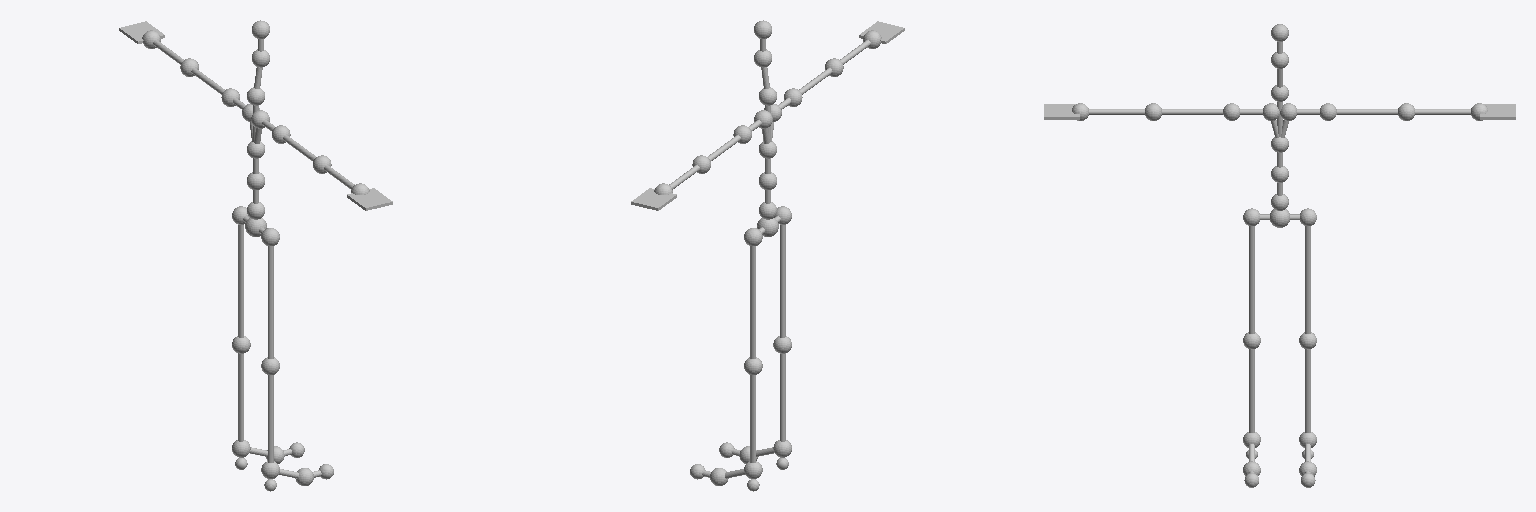
--- Facts derived from the render (not from the file) ---
Views: 3 orthographic renders of the robot side by side, from view 1: azimuth 30°, elevation 25°; view 2: azimuth 150°, elevation 25°; view 3: azimuth 270°, elevation 25°.
Model ccrp_skeleton with 73 links and 72 joints (63 revolute, 9 fixed), rooted at hips, posed every joint at zero.
Visible links, largest first — view 1: left_up_leg_link, right_up_leg_link, right_hand_link, right_leg_link, left_leg_link; view 2: left_up_leg_link, right_up_leg_link, left_hand_link, left_leg_link, right_leg_link; view 3: left_up_leg_link, right_up_leg_link.
Boxes of the visible links, x1,y1,x2,y2 form: left_up_leg_link: (238,225,243,337); right_up_leg_link: (268,246,273,358); right_hand_link: (347,188,392,210); right_leg_link: (268,375,273,462); left_leg_link: (238,353,243,441); left_up_leg_link: (750,246,755,358); right_up_leg_link: (780,225,785,337); left_hand_link: (631,188,676,210); left_leg_link: (750,375,755,462); right_leg_link: (780,353,785,441); left_up_leg_link: (1305,226,1310,333); right_up_leg_link: (1249,226,1254,333).
Bounding box of the posed robot: 0.28 × 1.57 × 1.62 m (x, y, z).
Geometry: primitives only (box / cylinder / sphere), no mesh files.

robot.urdf — ccrp_skeleton:
<robot name="ccrp_skeleton">
  <mujoco>
    <compiler meshdir="meshes" discardvisual="false"/>
  </mujoco>

  <!-- <link name= "ww">
  </link> -->

  <link name="hips">
    <visual>
      <origin xyz="0 0 0" rpy="0 0 0"/>
      <geometry>
        <sphere radius="0.035"/>
      </geometry>
      <material name="dark">
        <color rgba="0.8 0.8 0.8 1"/>
      </material>
    </visual>
  </link>

  <link name="left_hips2up_leg_link">
    <visual>
      <origin xyz="0 0.04685 0" rpy="1.5708 0 0"/>
      <geometry>
        <cylinder radius="0.01" length="0.0937"/>
      </geometry>
      <material name="dark">
        <color rgba="0.8 0.8 0.8 1"/>
      </material>
    </visual>
  </link>
  <joint name="left_hips2up_leg_joint" type="fixed">
    <origin xyz="0 0 0" rpy="0 0  0"/>
    <parent link="hips"/>
    <child link="left_hips2up_leg_link"/>
    <axis xyz="0 0 1"/>
    <limit lower="-2.79252444" upper="2.34906556" effort="88" velocity="32"/>
  </joint>

  <link name="right_hips2up_leg_link">
    <visual>
      <origin xyz="0 -0.04685 0" rpy="1.5708 0 0"/>
      <geometry>
        <cylinder radius="0.01" length="0.0937"/>
      </geometry>
      <material name="dark">
        <color rgba="0.8 0.8 0.8 1"/>
      </material>
    </visual>
  </link>
  <joint name="right_hips2up_leg_joint" type="fixed">
    <origin xyz="0 0 0" rpy="0 0  0"/>
    <parent link="hips"/>
    <child link="right_hips2up_leg_link"/>
    <axis xyz="0 0 1"/>
    <limit lower="-2.79252444" upper="2.34906556" effort="88" velocity="32"/>
  </joint>


  <!-- ###################### Left  Leg ########################### -->
  
  

  <link name="left_up_leg_1">
    <visual>
      <origin xyz="0 0 0" rpy="0 0 0"/>
      <geometry>
        <sphere radius="0.03"/>
      </geometry>
      <material name="dark">
        <color rgba="0.8 0.8 0.8 1"/>
      </material>
    </visual>
  </link>

  <link name="left_up_leg_2">
  </link>
  <link name="left_up_leg_link">
    <visual>
      <origin xyz="0.0 0.0 -0.227" rpy="0.0 0.0 0.0"/>
      <geometry>
        <cylinder radius="0.01" length="0.454"/>
      </geometry>
      <material name="dark">
        <color rgba="0.8 0.8 0.8 1"/>
      </material>
    </visual>
  </link>

  <joint name="left_up_leg_joint_x" type="revolute">
    <origin xyz="0 0.0937 0" rpy="0 0  0"/>
    <parent link="hips"/>
    <child link="left_up_leg_1"/>
    <axis xyz="1 0 0"/>
    <limit lower="-2.79252444" upper="2.34906556" effort="88" velocity="32"/>
  </joint>

  <joint name="left_up_leg_joint_y" type="revolute">
    <origin xyz="0 0 0" rpy="0 0  0"/>
    <parent link="left_up_leg_1"/>
    <child link="left_up_leg_2"/>
    <axis xyz="0 1 0"/>
    <limit lower="-2.79252444" upper="2.34906556" effort="88" velocity="32"/>
  </joint>

  <joint name="left_up_leg_joint_z" type="revolute">
    <origin xyz="0 0 0" rpy="0 0  0"/>
    <parent link="left_up_leg_2"/>
    <child link="left_up_leg_link"/>
    <axis xyz="0 0 1"/>
    <limit lower="-2.79252444" upper="2.34906556" effort="88" velocity="32"/>
  </joint>

  <link name="left_leg_1">
    <visual>
      <origin xyz="0 0 0" rpy="0 0 0"/>
      <geometry>
        <sphere radius="0.03"/>
      </geometry>
      <material name="dark">
        <color rgba="0.8 0.8 0.8 1"/>
      </material>
    </visual>
  </link>
  <link name="left_leg_2">
  </link>

  <link name="left_leg_link">
    <visual>
      <origin xyz="0.0 0.0 -0.183" rpy="0.0 0.0 0.0"/>
      <geometry>
        <cylinder radius="0.01" length="0.366"/>
      </geometry>
      <material name="dark">
        <color rgba="0.8 0.8 0.8 1"/>
      </material>
    </visual>
  </link>

  <joint name="left_leg_joint_x" type="revolute">
    <origin xyz="0 0 -0.454" rpy="0 0  0"/>
    <parent link="left_up_leg_link"/>
    <child link="left_leg_1"/>
    <axis xyz="1 0 0"/>
    <limit lower="-2.79252444" upper="2.34906556" effort="88" velocity="32"/>
  </joint>

  <joint name="left_leg_joint_y" type="revolute">
    <origin xyz="0 0 0.0" rpy="0 0  0"/>
    <parent link="left_leg_1"/>
    <child link="left_leg_2"/>
    <axis xyz="0 1 0"/>
    <limit lower="-2.79252444" upper="2.34906556" effort="88" velocity="32"/>
  </joint>

  <joint name="left_leg_joint_z" type="revolute">
    <origin xyz="0 0 0.0" rpy="0 0  0"/>
    <parent link="left_leg_2"/>
    <child link="left_leg_link"/>
    <axis xyz="0 0 1"/>
    <limit lower="-2.79252444" upper="2.34906556" effort="88" velocity="32"/>
  </joint>

  <link name="left_foot_1">
    <visual>
      <origin xyz="0 0 0" rpy="0 0 0"/>
      <geometry>
        <sphere radius="0.03"/>
      </geometry>
      <material name="dark">
        <color rgba="0.8 0.8 0.8 1"/>
      </material>
    </visual>
  </link>
  <link name ="left_foot_2">
  </link>
  <link name="left_foot_link">
    <visual>
      <origin xyz="0.0625 0.0 -0.027" rpy="0.0 1.9785810654722864 0.0"/>
      <geometry>
        <cylinder radius="0.01" length="0.13616534067081829"/>
      </geometry>
      <material name="dark">
        <color rgba="0.8 0.8 0.8 1"/>
      </material>
    </visual>
  </link>

  <joint name="left_foot_joint_x" type="revolute">
    <origin xyz="0 0 -0.366" rpy="0 0 0"/>
    <parent link="left_leg_link"/>
    <child link="left_foot_1"/>
    <axis xyz="1 0 0"/>
    <limit lower="-2.79252444" upper="2.34906556" effort="88" velocity="32"/>
  </joint>

  <joint name="left_foot_joint_y" type="revolute">
    <origin xyz="0 0 0.0" rpy="0 0 0"/>
    <parent link="left_foot_1"/>
    <child link="left_foot_2"/>
    <axis xyz="0 1 0"/>
    <limit lower="-2.79252444" upper="2.34906556" effort="88" velocity="32"/>
  </joint>

  <joint name="left_foot_joint_z" type="revolute">
    <origin xyz="0 0 0" rpy="0 0 0"/>
    <parent link="left_foot_2"/>
    <child link="left_foot_link"/>
    <axis xyz="0 0 1"/>
    <limit lower="-2.79252444" upper="2.34906556" effort="88" velocity="32"/>
  </joint>


  <link name="left_toe_1">
    <visual>
      <origin xyz="0 0 0" rpy="0 0 0"/>
      <geometry>
        <sphere radius="0.03"/>
      </geometry>
      <material name="dark">
        <color rgba="0.8 0.8 0.8 1"/>
      </material>
    </visual>
  </link>
  <link name ="left_toe_2">
  </link>
  <link name="left_toe_link">
    <visual>
      <origin xyz="0.04 0.0 0.0" rpy="0.0 1.5708 0.0"/>
      <geometry>
        <cylinder radius="0.01" length="0.08"/>
      </geometry>
      <material name="dark">
        <color rgba="0.8 0.8 0.8 1"/>
      </material>
    </visual>
  </link>

  <joint name="left_toe_joint_x" type="revolute">
    <origin xyz="0.125 0 -0.054" rpy="0 0 0"/>
    <parent link="left_foot_link"/>
    <child link="left_toe_1"/>
    <axis xyz="1 0 0"/>
    <limit lower="-2.79252444" upper="2.34906556" effort="88" velocity="32"/>
  </joint>

  <joint name="left_toe_joint_y" type="revolute">
    <origin xyz="0 0 0" rpy="0 0 0"/>
    <parent link="left_toe_1"/>
    <child link="left_toe_2"/>
    <axis xyz="0 1 0"/>
    <limit lower="-2.79252444" upper="2.34906556" effort="88" velocity="32"/>
  </joint>

  <joint name="left_toe_joint_z" type="revolute">
    <origin xyz="0 0 0" rpy="0 0 0"/>
    <parent link="left_toe_2"/>
    <child link="left_toe_link"/>
    <axis xyz="0 0 1"/>
    <limit lower="-2.79252444" upper="2.34906556" effort="88" velocity="32"/>
  </joint>

  <link name="left_toe_end_link">
    <visual>
      <origin xyz="0 0 0" rpy="0 0 0"/>
      <geometry>
        <sphere radius="0.025"/>
      </geometry>
      <material name="dark">
        <color rgba="0.8 0.8 0.8 1"/>
      </material>
    </visual>
  </link>

  <joint name="left_toe_end_joint" type="fixed">
    <origin xyz="0.08 0.0 0.0" rpy="0 0 0"/>
    <parent link="left_toe_link"/>
    <child link="left_toe_end_link"/>
    <axis xyz="0 1 0"/>
    <limit lower="-2.79252444" upper="2.34906556" effort="88" velocity="32"/>
  </joint>

  <link name="left_foot_end_link">
    <visual>
      <origin xyz="0 0 0" rpy="0 0 0"/>
      <geometry>
        <sphere radius="0.02"/>
      </geometry>
      <material name="dark">
        <color rgba="0.8 0.8 0.8 1"/>
      </material>
    </visual>
  </link>
  <joint name="left_foot_end_joint" type="fixed">
    <origin xyz="0.0 0.0 -0.054" rpy="0 0 0"/>
    <parent link="left_foot_link"/>
    <child link="left_foot_end_link"/>
    <axis xyz="0 1 0"/>
    <limit lower="-2.79252444" upper="2.34906556" effort="88" velocity="32"/>
  </joint>

  <!-- ###################### Right  Leg ########################### -->
  <link name="right_up_leg_1">
    <visual>
      <origin xyz="0 0 0" rpy="0 0 0"/>
      <geometry>
        <sphere radius="0.03"/>
      </geometry>
      <material name="dark">
        <color rgba="0.8 0.8 0.8 1"/>
      </material>
    </visual>
  </link>

  <link name="right_up_leg_2">
  </link>
  <link name="right_up_leg_link">
    <visual>
      <origin xyz="0.0 0.0 -0.227" rpy="0.0 0.0 0.0"/>
      <geometry>
        <cylinder radius="0.01" length="0.454"/>
      </geometry>
      <material name="dark">
        <color rgba="0.8 0.8 0.8 1"/>
      </material>
    </visual>
  </link>

  <joint name="right_up_leg_joint_x" type="revolute">
    <origin xyz="0 -0.0937 0" rpy="0 0  0"/>
    <parent link="hips"/>
    <child link="right_up_leg_1"/>
    <axis xyz="1 0 0"/>
    <limit lower="-2.79252444" upper="2.34906556" effort="88" velocity="32"/>
  </joint>

  <joint name="right_up_leg_joint_y" type="revolute">
    <origin xyz="0 0 0" rpy="0 0  0"/>
    <parent link="right_up_leg_1"/>
    <child link="right_up_leg_2"/>
    <axis xyz="0 1 0"/>
    <limit lower="-2.79252444" upper="2.34906556" effort="88" velocity="32"/>
  </joint>

  <joint name="right_up_leg_joint_z" type="revolute">
    <origin xyz="0 0 0" rpy="0 0  0"/>
    <parent link="right_up_leg_2"/>
    <child link="right_up_leg_link"/>
    <axis xyz="0 0 1"/>
    <limit lower="-2.79252444" upper="2.34906556" effort="88" velocity="32"/>
  </joint>

  <link name="right_leg_1">
    <visual>
      <origin xyz="0 0 0" rpy="0 0 0"/>
      <geometry>
        <sphere radius="0.03"/>
      </geometry>
      <material name="dark">
        <color rgba="0.8 0.8 0.8 1"/>
      </material>
    </visual>
  </link>
  <link name="right_leg_2">
  </link>
  <link name="right_leg_link">
    <visual>
      <origin xyz="0.0 0.0 -0.183" rpy="0.0 0.0 0.0"/>
      <geometry>
        <cylinder radius="0.01" length="0.366"/>
      </geometry>
      <material name="dark">
        <color rgba="0.8 0.8 0.8 1"/>
      </material>
    </visual>
  </link>

  <joint name="right_leg_joint_x" type="revolute">
    <origin xyz="0 0 -0.454" rpy="0 0  0"/>
    <parent link="right_up_leg_link"/>
    <child link="right_leg_1"/>
    <axis xyz="1 0 0"/>
    <limit lower="-2.79252444" upper="2.34906556" effort="88" velocity="32"/>
  </joint>
  <joint name="right_leg_joint_y" type="revolute">
    <origin xyz="0 0 0" rpy="0 0  0"/>
    <parent link="right_leg_1"/>
    <child link="right_leg_2"/>
    <axis xyz="0 1 0"/>
    <limit lower="-2.79252444" upper="2.34906556" effort="88" velocity="32"/>
  </joint>
  <joint name="right_leg_joint_z" type="revolute">
    <origin xyz="0 0 0" rpy="0 0  0"/>
    <parent link="right_leg_2"/>
    <child link="right_leg_link"/>
    <axis xyz="0 0 1"/>
    <limit lower="-2.79252444" upper="2.34906556" effort="88" velocity="32"/>
  </joint>

  <link name="right_foot_1">
    <visual>
      <origin xyz="0 0 0" rpy="0 0 0"/>
      <geometry>
        <sphere radius="0.03"/>
      </geometry>
      <material name="dark">
        <color rgba="0.8 0.8 0.8 1"/>
      </material>
    </visual>
  </link>
  <link name="right_foot_2">
  </link>
  <link name="right_foot_link">
    <visual>
      <origin xyz="0.0625 0.0 -0.027" rpy="0.0 1.9785810654722864 0.0"/>
      <geometry>
        <cylinder radius="0.01" length="0.13616534067081829"/>
      </geometry>
      <material name="dark">
        <color rgba="0.8 0.8 0.8 1"/>
      </material>
    </visual>
  </link>

  <joint name="right_foot_joint_x" type="revolute">
    <origin xyz="0 0 -0.366" rpy="0 0 0"/>
    <parent link="right_leg_link"/>
    <child link="right_foot_1"/>
    <axis xyz="1 0 0"/>
    <limit lower="-2.79252444" upper="2.34906556" effort="88" velocity="32"/>
  </joint>
  <joint name="right_foot_joint_y" type="revolute">
    <origin xyz="0 0 0" rpy="0 0 0"/>
    <parent link="right_foot_1"/>
    <child link="right_foot_2"/>
    <axis xyz="0 1 0"/>
    <limit lower="-2.79252444" upper="2.34906556" effort="88" velocity="32"/>
  </joint>
  <joint name="right_foot_joint_z" type="revolute">
    <origin xyz="0 0 0" rpy="0 0 0"/>
    <parent link="right_foot_2"/>
    <child link="right_foot_link"/>
    <axis xyz="0 0 1"/>
    <limit lower="-2.79252444" upper="2.34906556" effort="88" velocity="32"/>
  </joint>

  <link name="right_toe_1">
    <visual>
      <origin xyz="0 0 0" rpy="0 0 0"/>
      <geometry>
        <sphere radius="0.03"/>
      </geometry>
      <material name="dark">
        <color rgba="0.8 0.8 0.8 1"/>
      </material>
    </visual>
  </link>
  <link name ="right_toe_2">
  </link>
  <link name="right_toe_link">
    <visual>
      <origin xyz="0.04 0.0 0.0" rpy="0.0 1.5708 0.0"/>
      <geometry>
        <cylinder radius="0.01" length="0.08"/>
      </geometry>
      <material name="dark">
        <color rgba="0.8 0.8 0.8 1"/>
      </material>
    </visual>
  </link>

  <joint name="right_toe_joint_x" type="revolute">
    <origin xyz="0.125 0 -0.054" rpy="0 0 0"/>
    <parent link="right_foot_link"/>
    <child link="right_toe_1"/>
    <axis xyz="1 0 0"/>
    <limit lower="-2.79252444" upper="2.34906556" effort="88" velocity="32"/>
  </joint>

  <joint name="right_toe_joint_y" type="revolute">
    <origin xyz="0 0 0" rpy="0 0 0"/>
    <parent link="right_toe_1"/>
    <child link="right_toe_2"/>
    <axis xyz="0 1 0"/>
    <limit lower="-2.79252444" upper="2.34906556" effort="88" velocity="32"/>
  </joint>

  <joint name="right_toe_joint_z" type="revolute">
    <origin xyz="0 0 0" rpy="0 0 0"/>
    <parent link="right_toe_2"/>
    <child link="right_toe_link"/>
    <axis xyz="0 0 1"/>
    <limit lower="-2.79252444" upper="2.34906556" effort="88" velocity="32"/>
  </joint>

  <link name="right_toe_end_link">
    <visual>
      <origin xyz="0 0 0" rpy="0 0 0"/>
      <geometry>
        <sphere radius="0.025"/>
      </geometry>
      <material name="dark">
        <color rgba="0.8 0.8 0.8 1"/>
      </material>
    </visual>
  </link>

  <joint name="right_toe_end_joint" type="fixed">
    <origin xyz="0.08 0.0 0.0" rpy="0 0 0"/>
    <parent link="right_toe_link"/>
    <child link="right_toe_end_link"/>
    <axis xyz="0 1 0"/>
    <limit lower="-2.79252444" upper="2.34906556" effort="88" velocity="32"/>
  </joint>

  <link name="right_foot_end_link">
    <visual>
      <origin xyz="0 0 0" rpy="0 0 0"/>
      <geometry>
        <sphere radius="0.02"/>
      </geometry>
      <material name="dark">
        <color rgba="0.8 0.8 0.8 1"/>
      </material>
    </visual>
  </link>
  <joint name="right_foot_end_joint" type="fixed">
    <origin xyz="0.0 0.0 -0.054" rpy="0 0 0"/>
    <parent link="right_foot_link"/>
    <child link="right_foot_end_link"/>
    <axis xyz="0 1 0"/>
    <limit lower="-2.79252444" upper="2.34906556" effort="88" velocity="32"/>
  </joint>

  <!-- ################## Upper Body ################## -->

  <!-- ~~~~~~~~~~~~~~~~~~ Spine1 Link ~~~~~~~~~~~~~~~~~~ -->
  <link name="spine1_1">
    <visual>
      <origin xyz="0 0 0" rpy="0 0 0"/>
      <geometry>
        <sphere radius="0.03"/>
      </geometry>
      <material name="dark">
        <color rgba="0.8 0.8 0.8 1"/>
      </material>
    </visual>
  </link>

  <link name="spine1_2">
  </link>
  <link name="spine1_link">
    <visual>
      <origin xyz="0.0 0.0 0.052" rpy="0.0 0.0 0.0"/>
      <geometry>
        <cylinder radius="0.01" length="0.104"/>
      </geometry>
      <material name="dark">
        <color rgba="0.8 0.8 0.8 1"/>
      </material>
    </visual>
  </link>

  <joint name="spine1_joint_x" type="revolute">
    <origin xyz="0 0.0 0.0562" rpy="0 0  0"/>
    <parent link="hips"/>
    <child link="spine1_1"/>
    <axis xyz="1 0 0"/>
    <limit lower="-2.79252444" upper="2.34906556" effort="88" velocity="32"/>
  </joint>

  <joint name="spine1_joint_y" type="revolute">
    <origin xyz="0 0 0" rpy="0 0  0"/>
    <parent link="spine1_1"/>
    <child link="spine1_2"/>
    <axis xyz="0 1 0"/>
    <limit lower="-2.79252444" upper="2.34906556" effort="88" velocity="32"/>
  </joint>

  <joint name="spine1_joint_z" type="revolute">
    <origin xyz="0 0 0" rpy="0 0  0"/>
    <parent link="spine1_2"/>
    <child link="spine1_link"/>
    <axis xyz="0 0 1"/>
    <limit lower="-2.79252444" upper="2.34906556" effort="88" velocity="32"/>
  </joint>

  <!-- ~~~~~~~~~~~~~~~~~~ Spine2 Link ~~~~~~~~~~~~~~~~~~ -->
  <link name="spine2_1">
    <visual>
      <origin xyz="0 0 0" rpy="0 0 0"/>
      <geometry>
        <sphere radius="0.03"/>
      </geometry>
      <material name="dark">
        <color rgba="0.8 0.8 0.8 1"/>
      </material>
    </visual>
  </link>

  <link name="spine2_2">
  </link>
  <link name="spine2_link">
    <visual>
      <origin xyz="0.0 0.0 0.0552" rpy="0.0 0.0 0.0"/>
      <geometry>
        <cylinder radius="0.01" length="0.111"/>
      </geometry>
      <material name="dark">
        <color rgba="0.8 0.8 0.8 1"/>
      </material>
    </visual>
  </link>

  <joint name="spine2_joint_x" type="revolute">
    <origin xyz="0.0 0.0 0.104" rpy="0 0  0"/>
    <parent link="spine1_link"/>
    <child link="spine2_1"/>
    <axis xyz="1 0 0"/>
    <limit lower="-2.79252444" upper="2.34906556" effort="88" velocity="32"/>
  </joint>

  <joint name="spine2_joint_y" type="revolute">
    <origin xyz="0 0 0" rpy="0 0  0"/>
    <parent link="spine2_1"/>
    <child link="spine2_2"/>
    <axis xyz="0 1 0"/>
    <limit lower="-2.79252444" upper="2.34906556" effort="88" velocity="32"/>
  </joint>

  <joint name="spine2_joint_z" type="revolute">
    <origin xyz="0 0 0" rpy="0 0  0"/>
    <parent link="spine2_2"/>
    <child link="spine2_link"/>
    <axis xyz="0 0 1"/>
    <limit lower="-2.79252444" upper="2.34906556" effort="88" velocity="32"/>
  </joint>
  <!-- ~~~~~~~~~~~~~~~~~~ Chesk Link ~~~~~~~~~~~~~~~~~~ -->
  <link name="chest_1">
    <visual>
      <origin xyz="0 0 0.0" rpy="0 0 0"/>
      <geometry>
        <sphere radius="0.03"/>
      </geometry>
      <material name="dark">
        <color rgba="0.8 0.8 0.8 1"/>
      </material>
    </visual>
  </link>

  <link name="chest_2">
  </link>
  <link name="chest_link">
    <visual>
      <origin xyz="0.0 0.0 0.0935" rpy="0.0 0.0 0.0"/>
      <geometry>
        <cylinder radius="0.01" length="0.187"/>
      </geometry>
      <material name="dark">
        <color rgba="0.8 0.8 0.8 1"/>
      </material>
    </visual>
  </link>

  <joint name="chest_joint_x" type="revolute">
    <origin xyz="0.0 0.0 0.111" rpy="0 0  0"/>
    <parent link="spine2_link"/>
    <child link="chest_1"/>
    <axis xyz="1 0 0"/>
    <limit lower="-2.79252444" upper="2.34906556" effort="88" velocity="32"/>
  </joint>

  <joint name="chest_joint_y" type="revolute">
    <origin xyz="0 0 0" rpy="0 0  0"/>
    <parent link="chest_1"/>
    <child link="chest_2"/>
    <axis xyz="0 1 0"/>
    <limit lower="-2.79252444" upper="2.34906556" effort="88" velocity="32"/>
  </joint>

  <joint name="chest_joint_z" type="revolute">
    <origin xyz="0 0 0" rpy="0 0  0"/>
    <parent link="chest_2"/>
    <child link="chest_link"/>
    <axis xyz="0 0 1"/>
    <limit lower="-2.79252444" upper="2.34906556" effort="88" velocity="32"/>
  </joint>

  <!-- ~~~~~~~~~~~~~~~~~~ Neck Link ~~~~~~~~~~~~~~~~~~ -->
  <link name="neck_1">
    <visual>
      <origin xyz="0 0 0.0" rpy="0 0 0"/>
      <geometry>
        <sphere radius="0.03"/>
      </geometry>
      <material name="dark">
        <color rgba="0.8 0.8 0.8 1"/>
      </material>
    </visual>
  </link>

  <link name="neck_2">
  </link>
  <link name="neck_link">
    <visual>
      <origin xyz="0.009 0.0 0.065" rpy="0.0 0.13758673647034986 0.0"/>
      <geometry>
        <cylinder radius="0.01" length="0.13124"/>
      </geometry>
      <material name="dark">
        <color rgba="0.8 0.8 0.8 1"/>
      </material>
    </visual>
  </link>

  <joint name="neck_joint_x" type="revolute">
    <origin xyz="0.0 0.0 0.187" rpy="0 0  0"/>
    <parent link="chest_link"/>
    <child link="neck_1"/>
    <axis xyz="1 0 0"/>
    <limit lower="-2.79252444" upper="2.34906556" effort="88" velocity="32"/>
  </joint>

  <joint name="neck_joint_y" type="revolute">
    <origin xyz="0 0 0" rpy="0 0  0"/>
    <parent link="neck_1"/>
    <child link="neck_2"/>
    <axis xyz="0 1 0"/>
    <limit lower="-2.79252444" upper="2.34906556" effort="88" velocity="32"/>
  </joint>

  <joint name="neck_joint_z" type="revolute">
    <origin xyz="0 0 0" rpy="0 0  0"/>
    <parent link="neck_2"/>
    <child link="neck_link"/>
    <axis xyz="0 0 1"/>
    <limit lower="-2.79252444" upper="2.34906556" effort="88" velocity="32"/>
  </joint>

  <!-- ~~~~~~~~~~~~~~~~~~ Head Link ~~~~~~~~~~~~~~~~~~ -->
  <link name="head_1">
    <visual>
      <origin xyz="0 0 0.0" rpy="0 0 0"/>
      <geometry>
        <sphere radius="0.03"/>
      </geometry>
      <material name="dark">
        <color rgba="0.8 0.8 0.8 1"/>
      </material>
    </visual>
  </link>

  <link name="head_2">
  </link>
  <link name="head_link">
    <visual>
      <origin xyz="0.0 0.0 0.05" rpy="0.0 0.0 0.0"/>
      <geometry>
        <cylinder radius="0.01" length="0.1"/>
      </geometry>
      <material name="dark">
        <color rgba="0.8 0.8 0.8 1"/>
      </material>
    </visual>
  </link>

  <joint name="head_joint_x" type="revolute">
    <origin xyz="0.018 0.0 0.130" rpy="0 0  0"/>
    <parent link="neck_link"/>
    <child link="head_1"/>
    <axis xyz="1 0 0"/>
    <limit lower="-2.79252444" upper="2.34906556" effort="88" velocity="32"/>
  </joint>

  <joint name="head_joint_y" type="revolute">
    <origin xyz="0 0 0" rpy="0 0  0"/>
    <parent link="head_1"/>
    <child link="head_2"/>
    <axis xyz="0 1 0"/>
    <limit lower="-2.79252444" upper="2.34906556" effort="88" velocity="32"/>
  </joint>

  <joint name="head_joint_z" type="revolute">
    <origin xyz="0 0 0" rpy="0 0  0"/>
    <parent link="head_2"/>
    <child link="head_link"/>
    <axis xyz="0 0 1"/>
    <limit lower="-2.79252444" upper="2.34906556" effort="88" velocity="32"/>
  </joint>

  <link name="head_end_link">
    <visual>
      <origin xyz="0 0 0.0" rpy="0 0 0"/>
      <geometry>
        <sphere radius="0.03"/>
      </geometry>
      <material name="dark">
        <color rgba="0.8 0.8 0.8 1"/>
      </material>
    </visual>
  </link>
  <joint name="head_end_joint" type="fixed">
    <origin xyz="0 0 0.1" rpy="0 0  0"/>
    <parent link="head_link"/>
    <child link="head_end_link"/>
    <axis xyz="1 0 0"/>
    <limit lower="-2.79252444" upper="2.34906556" effort="88" velocity="32"/>
  </joint>

  <!-- ~~~~~~~~~~~~~~~~~~ left shouder Link ~~~~~~~~~~~~~~~~~~ -->
  <link name="left_chest2shouder_link">
    <visual>
      <origin xyz="0.0 0.01445 0.0585" rpy="-0.24216120227848806 0.0 0.0"/>
      <geometry>
        <cylinder radius="0.01" length="0.12051643041510979"/>
      </geometry>
      <material name="dark">
        <color rgba="0.8 0.8 0.8 1"/>
      </material>
    </visual>
  </link>
  <joint name="left_chest2shouder_joint" type="fixed">
    <origin xyz="0 0 0" rpy="0 0  0"/>
    <parent link="chest_link"/>
    <child link="left_chest2shouder_link"/>
    <axis xyz="1 0 0"/>
    <limit lower="-2.79252444" upper="2.34906556" effort="88" velocity="32"/>
  </joint>



  <link name="left_shouder_1">
    <visual>
      <origin xyz="0 0 0.0" rpy="0 0 0"/>
      <geometry>
        <sphere radius="0.03"/>
      </geometry>
      <material name="dark">
        <color rgba="0.8 0.8 0.8 1"/>
      </material>
    </visual>
  </link>

  <link name="left_shouder_2">
  </link>
  <link name="left_shouder_link">
    <visual>
      <origin xyz="0.0 0.066 0" rpy="1.5708 0.0 0.0"/>
      <geometry>
        <cylinder radius="0.01" length="0.132"/>
      </geometry>
      <material name="dark">
        <color rgba="0.8 0.8 0.8 1"/>
      </material>
    </visual>
  </link>

  <joint name="left_shouder_joint_x" type="revolute">
    <origin xyz="0.0 0.0289 0.117" rpy="0 0  0"/>
    <parent link="chest_link"/>
    <child link="left_shouder_1"/>
    <axis xyz="1 0 0"/>
    <limit lower="-2.79252444" upper="2.34906556" effort="88" velocity="32"/>
  </joint>

  <joint name="left_shouder_joint_y" type="revolute">
    <origin xyz="0 0 0" rpy="0 0  0"/>
    <parent link="left_shouder_1"/>
    <child link="left_shouder_2"/>
    <axis xyz="0 1 0"/>
    <limit lower="-2.79252444" upper="2.34906556" effort="88" velocity="32"/>
  </joint>

  <joint name="left_shouder_joint_z" type="revolute">
    <origin xyz="0 0 0" rpy="0 0  0"/>
    <parent link="left_shouder_2"/>
    <child link="left_shouder_link"/>
    <axis xyz="0 0 1"/>
    <limit lower="-2.79252444" upper="2.34906556" effort="88" velocity="32"/>
  </joint>

  <!-- ~~~~~~~~~~~~~~~~~~ left arm Link ~~~~~~~~~~~~~~~~~~ -->
  <link name="left_arm_1">
    <visual>
      <origin xyz="0 0 0.0" rpy="0 0 0"/>
      <geometry>
        <sphere radius="0.03"/>
      </geometry>
      <material name="dark">
        <color rgba="0.8 0.8 0.8 1"/>
      </material>
    </visual>
  </link>

  <link name="left_arm_2">
  </link>
  <link name="left_arm_link">
    <visual>
      <origin xyz="0.0 0.131 0.0" rpy="1.5708 0.0 0.0"/>
      <geometry>
        <cylinder radius="0.01" length="0.262"/>
      </geometry>
      <material name="dark">
        <color rgba="0.8 0.8 0.8 1"/>
      </material>
    </visual>
  </link>

  <joint name="left_arm_joint_x" type="revolute">
    <origin xyz="0.0 0.132 0.0" rpy="0 0 0 "/>
    <parent link="left_shouder_link"/>
    <child link="left_arm_1"/>
    <axis xyz="1 0 0"/>
    <limit lower="-2.79252444" upper="2.34906556" effort="88" velocity="32"/>
  </joint>

  <joint name="left_arm_joint_y" type="revolute">
    <origin xyz="0 0 0" rpy="0 0  0"/>
    <parent link="left_arm_1"/>
    <child link="left_arm_2"/>
    <axis xyz="0 1 0"/>
    <limit lower="-2.79252444" upper="2.34906556" effort="88" velocity="32"/>
  </joint>

  <joint name="left_arm_joint_z" type="revolute">
    <origin xyz="0 0 0" rpy="0 0  0"/>
    <parent link="left_arm_2"/>
    <child link="left_arm_link"/>
    <axis xyz="0 0 1"/>
    <limit lower="-2.79252444" upper="2.34906556" effort="88" velocity="32"/>
  </joint>

  <!-- ~~~~~~~~~~~~~~~~~~ left fore_arm Link ~~~~~~~~~~~~~~~~~~ -->
  <link name="left_fore_arm_1">
    <visual>
      <origin xyz="0 0 0.0" rpy="0 0 0"/>
      <geometry>
        <sphere radius="0.03"/>
      </geometry>
      <material name="dark">
        <color rgba="0.8 0.8 0.8 1"/>
      </material>
    </visual>
  </link>

  <link name="left_fore_arm_2">
  </link>
  <link name="left_fore_arm_link">
    <visual>
      <origin xyz="0.0 0.122 0.0" rpy="1.5708 0.0 0.0"/>
      <geometry>
        <cylinder radius="0.01" length="0.244"/>
      </geometry>
      <material name="dark">
        <color rgba="0.8 0.8 0.8 1"/>
      </material>
    </visual>
  </link>

  <joint name="left_fore_arm_joint_x" type="revolute">
    <origin xyz="0.0 0.262 0.0" rpy="0 0 0 "/>
    <parent link="left_arm_link"/>
    <child link="left_fore_arm_1"/>
    <axis xyz="1 0 0"/>
    <limit lower="-2.79252444" upper="2.34906556" effort="88" velocity="32"/>
  </joint>
  <joint name="left_fore_arm_joint_y" type="revolute">
    <origin xyz="0.0 0 0.0" rpy="0 0 0 "/>
    <parent link="left_fore_arm_1"/>
    <child link="left_fore_arm_2"/>
    <axis xyz="0 1 0"/>
    <limit lower="-2.79252444" upper="2.34906556" effort="88" velocity="32"/>
  </joint>
  <joint name="left_fore_arm_joint_z" type="revolute">
    <origin xyz="0.0 0.0 0.0" rpy="0 0 0 "/>
    <parent link="left_fore_arm_2"/>
    <child link="left_fore_arm_link"/>
    <axis xyz="0 0 1"/>
    <limit lower="-2.79252444" upper="2.34906556" effort="88" velocity="32"/>
  </joint>

  <!-- ~~~~~~~~~~~~~~~~~~ left hand Link ~~~~~~~~~~~~~~~~~~ -->
  <link name="left_hand_1">
    <visual>
      <origin xyz="0 0 0.0" rpy="0 0 0"/>
      <geometry>
        <sphere radius="0.03"/>
      </geometry>
      <material name="dark">
        <color rgba="0.8 0.8 0.8 1"/>
      </material>
    </visual>
  </link>

  <link name="left_hand_2">
  </link>
  <link name="left_hand_link">
    <visual>
      <origin xyz="0.0 0.06 0.0" rpy="0 0.0 0.0"/>
      <geometry>
        <box size="0.1 0.12 0.01"/>
      </geometry>
      <material name="dark">
        <color rgba="0.8 0.8 0.8 1"/>
      </material>
    </visual>
  </link>

  <joint name="left_hand_joint_x" type="revolute">
    <origin xyz="0.0 0.244 0.0" rpy="0 0 0 "/>
    <parent link="left_fore_arm_link"/>
    <child link="left_hand_1"/>
    <axis xyz="1 0 0"/>
    <limit lower="-2.79252444" upper="2.34906556" effort="88" velocity="32"/>
  </joint>

  <joint name="left_hand_joint_y" type="revolute">
    <origin xyz="0 0 0" rpy="0 0  0"/>
    <parent link="left_hand_1"/>
    <child link="left_hand_2"/>
    <axis xyz="0 1 0"/>
    <limit lower="-2.79252444" upper="2.34906556" effort="88" velocity="32"/>
  </joint>

  <joint name="left_hand_joint_z" type="revolute">
    <origin xyz="0 0 0" rpy="0 0  0"/>
    <parent link="left_hand_2"/>
    <child link="left_hand_link"/>
    <axis xyz="0 0 1"/>
    <limit lower="-2.79252444" upper="2.34906556" effort="88" velocity="32"/>
  </joint>


  <!-- ################## Right Arm ###################### -->
  <!-- ~~~~~~~~~~~~~~~~~~ Right shouder Link ~~~~~~~~~~~~~~~~~~ -->
  <link name="right_chest2shouder_link">
    <visual>
      <origin xyz="0.0 -0.01445 0.0585" rpy="0.24216120227848806 0.0 0.0"/>
      <geometry>
        <cylinder radius="0.01" length="0.12051643041510979"/>
      </geometry>
      <material name="dark">
        <color rgba="0.8 0.8 0.8 1"/>
      </material>
    </visual>
  </link>
  <joint name="right_chest2shouder_joint" type="fixed">
    <origin xyz="0 0 0" rpy="0 0  0"/>
    <parent link="chest_link"/>
    <child link="right_chest2shouder_link"/>
    <axis xyz="1 0 0"/>
    <limit lower="-2.79252444" upper="2.34906556" effort="88" velocity="32"/>
  </joint>

  <link name="right_shouder_1">
    <visual>
      <origin xyz="0 0 0.0" rpy="0 0 0"/>
      <geometry>
        <sphere radius="0.03"/>
      </geometry>
      <material name="dark">
        <color rgba="0.8 0.8 0.8 1"/>
      </material>
    </visual>
  </link>

  <link name="right_shouder_2">
  </link>
  <link name="right_shouder_link">
    <visual>
      <origin xyz="0.0 -0.066 0" rpy="-1.5708 0.0 0.0"/>
      <geometry>
        <cylinder radius="0.01" length="0.132"/>
      </geometry>
      <material name="dark">
        <color rgba="0.8 0.8 0.8 1"/>
      </material>
    </visual>
  </link>

  <joint name="right_shouder_joint_z" type="revolute">
    <origin xyz="0.0 -0.0289 0.117" rpy="0 0  0"/>
    <parent link="chest_link"/>
    <child link="right_shouder_1"/>
    <axis xyz="1 0 0"/>
    <limit lower="-2.79252444" upper="2.34906556" effort="88" velocity="32"/>
  </joint>

  <joint name="right_shouder_joint_y" type="revolute">
    <origin xyz="0 0 0" rpy="0 0  0"/>
    <parent link="right_shouder_1"/>
    <child link="right_shouder_2"/>
    <axis xyz="0 1 0"/>
    <limit lower="-2.79252444" upper="2.34906556" effort="88" velocity="32"/>
  </joint>

  <joint name="right_shouder_joint_x" type="revolute">
    <origin xyz="0 0 0" rpy="0 0  0"/>
    <parent link="right_shouder_2"/>
    <child link="right_shouder_link"/>
    <axis xyz="0 0 1"/>
    <limit lower="-2.79252444" upper="2.34906556" effort="88" velocity="32"/>
  </joint>

  <!-- ~~~~~~~~~~~~~~~~~~ right arm Link ~~~~~~~~~~~~~~~~~~ -->
  <link name="right_arm_1">
    <visual>
      <origin xyz="0 0 0.0" rpy="0 0 0"/>
      <geometry>
        <sphere radius="0.03"/>
      </geometry>
      <material name="dark">
        <color rgba="0.8 0.8 0.8 1"/>
      </material>
    </visual>
  </link>

  <link name="right_arm_2">
  </link>
  <link name="right_arm_link">
    <visual>
      <origin xyz="0.0 -0.131 0.0" rpy="-1.5708 0.0 0.0"/>
      <geometry>
        <cylinder radius="0.01" length="0.262"/>
      </geometry>
      <material name="dark">
        <color rgba="0.8 0.8 0.8 1"/>
      </material>
    </visual>
  </link>

  <joint name="right_arm_joint_x" type="revolute">
    <origin xyz="0.0 -0.132 0.0" rpy="0 0 0 "/>
    <parent link="right_shouder_link"/>
    <child link="right_arm_1"/>
    <axis xyz="1 0 0"/>
    <limit lower="-2.79252444" upper="2.34906556" effort="88" velocity="32"/>
  </joint>

  <joint name="right_arm_joint_y" type="revolute">
    <origin xyz="0 0 0" rpy="0 0  0"/>
    <parent link="right_arm_1"/>
    <child link="right_arm_2"/>
    <axis xyz="0 1 0"/>
    <limit lower="-2.79252444" upper="2.34906556" effort="88" velocity="32"/>
  </joint>

  <joint name="right_arm_joint_z" type="revolute">
    <origin xyz="0 0 0" rpy="0 0  0"/>
    <parent link="right_arm_2"/>
    <child link="right_arm_link"/>
    <axis xyz="0 0 1"/>
    <limit lower="-2.79252444" upper="2.34906556" effort="88" velocity="32"/>
  </joint>

  <!-- ~~~~~~~~~~~~~~~~~~ right fore_arm Link ~~~~~~~~~~~~~~~~~~ -->
  <link name="right_fore_arm_1">
    <visual>
      <origin xyz="0 0 0.0" rpy="0 0 0"/>
      <geometry>
        <sphere radius="0.03"/>
      </geometry>
      <material name="dark">
        <color rgba="0.8 0.8 0.8 1"/>
      </material>
    </visual>
  </link>

  <link name="right_fore_arm_2">
  </link>
  <link name="right_fore_arm_link">
    <visual>
      <origin xyz="0.0 -0.122 0.0" rpy="-1.5708 0.0 0.0"/>
      <geometry>
        <cylinder radius="0.01" length="0.244"/>
      </geometry>
      <material name="dark">
        <color rgba="0.8 0.8 0.8 1"/>
      </material>
    </visual>
  </link>

  <joint name="right_fore_arm_joint_x" type="revolute">
    <origin xyz="0.0 -0.262 0.0" rpy="0 0 0 "/>
    <parent link="right_arm_link"/>
    <child link="right_fore_arm_1"/>
    <axis xyz="1 0 0"/>
    <limit lower="-2.79252444" upper="2.34906556" effort="88" velocity="32"/>
  </joint>
  <joint name="right_fore_arm_joint_y" type="revolute">
    <origin xyz="0.0 0 0.0" rpy="0 0 0 "/>
    <parent link="right_fore_arm_1"/>
    <child link="right_fore_arm_2"/>
    <axis xyz="0 1 0"/>
    <limit lower="-2.79252444" upper="2.34906556" effort="88" velocity="32"/>
  </joint>
  <joint name="right_fore_arm_joint_z" type="revolute">
    <origin xyz="0.0 0 0.0" rpy="0 0 0 "/>
    <parent link="right_fore_arm_2"/>
    <child link="right_fore_arm_link"/>
    <axis xyz="0 0 1"/>
    <limit lower="-2.79252444" upper="2.34906556" effort="88" velocity="32"/>
  </joint>

  <!-- ~~~~~~~~~~~~~~~~~~ right hand Link ~~~~~~~~~~~~~~~~~~ -->
  <link name="right_hand_1">
    <visual>
      <origin xyz="0 0 0.0" rpy="0 0 0"/>
      <geometry>
        <sphere radius="0.03"/>
      </geometry>
      <material name="dark">
        <color rgba="0.8 0.8 0.8 1"/>
      </material>
    </visual>
  </link>

  <link name="right_hand_2">
  </link>
  <link name="right_hand_link">
    <visual>
      <origin xyz="0.0 -0.06 0.0" rpy="0 0.0 0.0"/>
      <geometry>
        <box size="0.1 0.12 0.01"/>
      </geometry>
      <material name="dark">
        <color rgba="0.8 0.8 0.8 1"/>
      </material>
    </visual>
  </link>

  <joint name="right_hand_joint_x" type="revolute">
    <origin xyz="0.0 -0.244 0.0" rpy="0 0 0 "/>
    <parent link="right_fore_arm_link"/>
    <child link="right_hand_1"/>
    <axis xyz="1 0 0"/>
    <limit lower="-2.79252444" upper="2.34906556" effort="88" velocity="32"/>
  </joint>

  <joint name="right_hand_joint_y" type="revolute">
    <origin xyz="0 0 0" rpy="0 0  0"/>
    <parent link="right_hand_1"/>
    <child link="right_hand_2"/>
    <axis xyz="0 1 0"/>
    <limit lower="-2.79252444" upper="2.34906556" effort="88" velocity="32"/>
  </joint>

  <joint name="right_hand_joint_z" type="revolute">
    <origin xyz="0 0 0" rpy="0 0  0"/>
    <parent link="right_hand_2"/>
    <child link="right_hand_link"/>
    <axis xyz="0 0 1"/>
    <limit lower="-2.79252444" upper="2.34906556" effort="88" velocity="32"/>
  </joint>

</robot>
